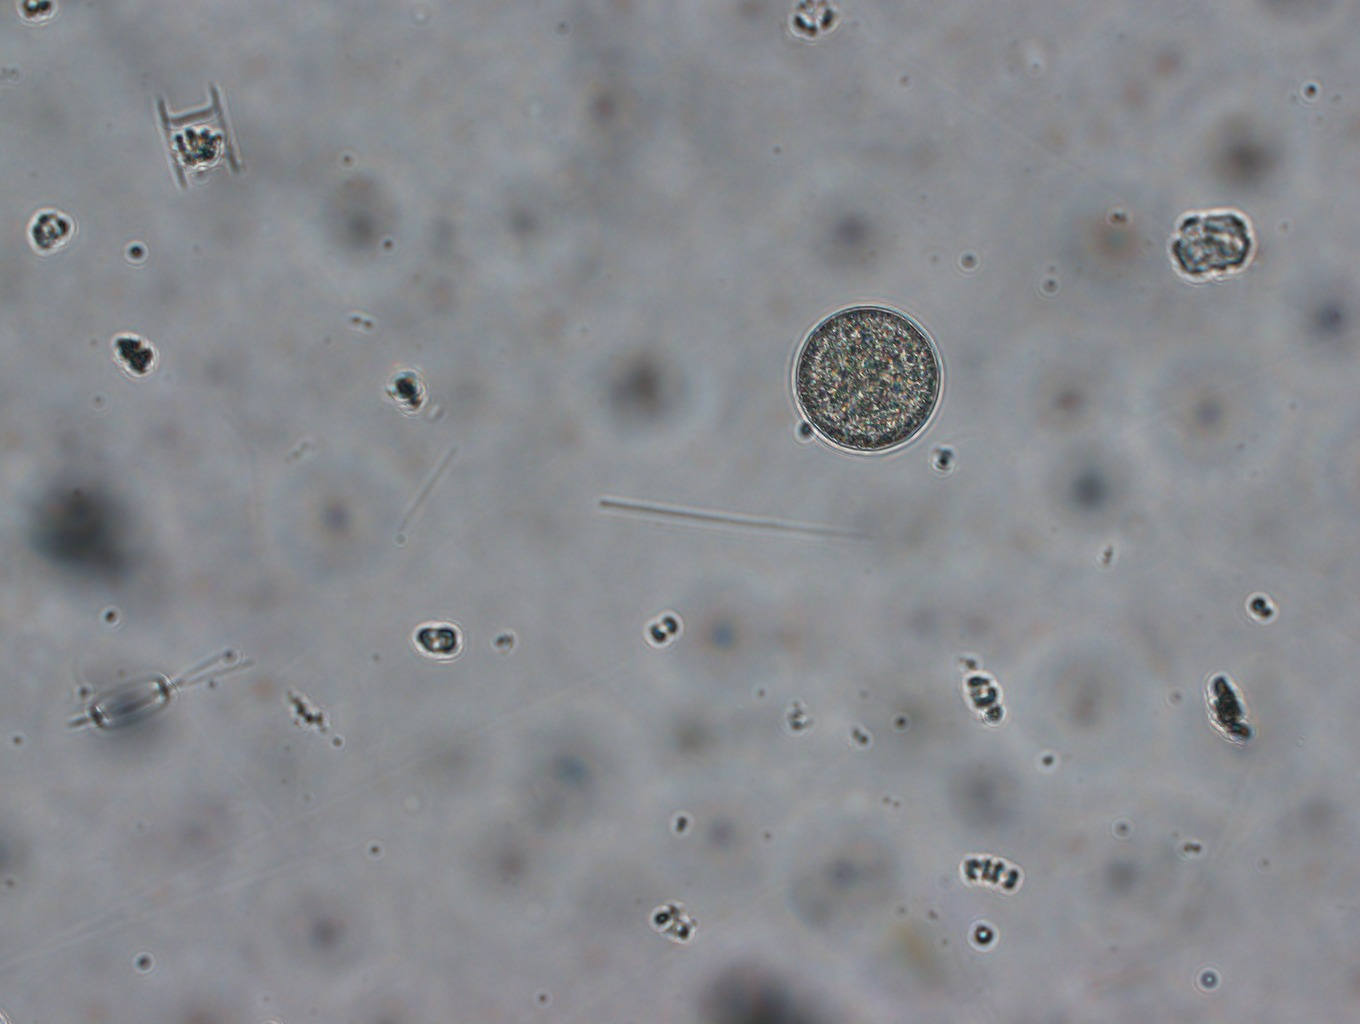chaetoceros: (29, 628, 260, 735)
coscinodiscus: (786, 298, 949, 460)
